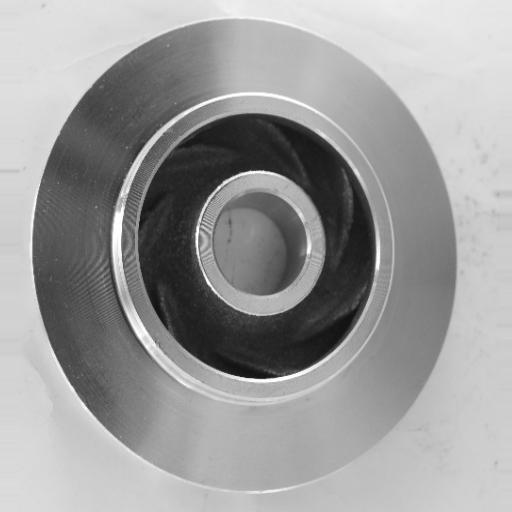polished_casting: (30, 15, 459, 494)
